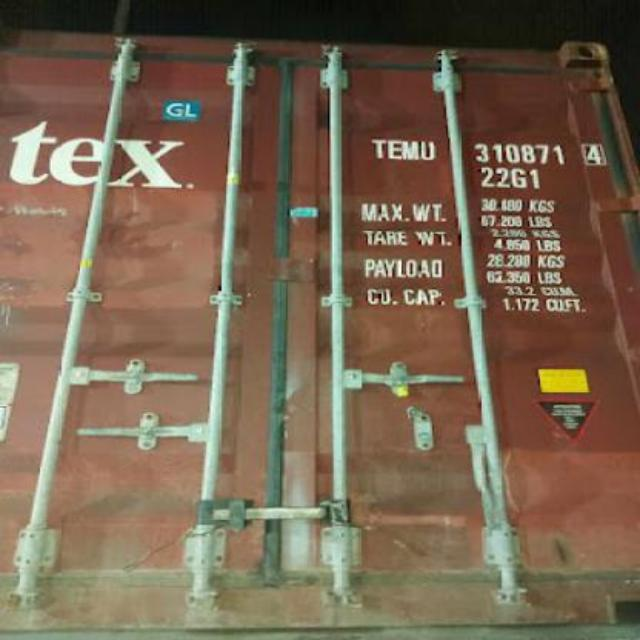0: (504, 138, 520, 166)
1: (552, 138, 568, 170), (492, 140, 504, 164)
3: (471, 136, 492, 162)
4: (582, 140, 610, 170)
7: (534, 142, 550, 164)
8: (522, 136, 536, 166)
E: (386, 132, 399, 164)
M: (400, 129, 420, 167)
T: (368, 134, 386, 162)
U: (420, 130, 436, 163)
